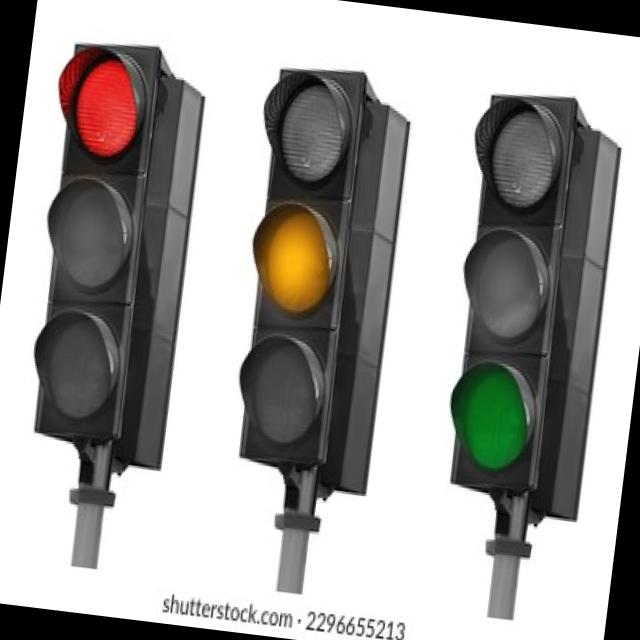green-lights: (453, 363, 534, 474)
red-lights: (70, 55, 144, 160)
yellow-lights: (257, 204, 339, 312)
